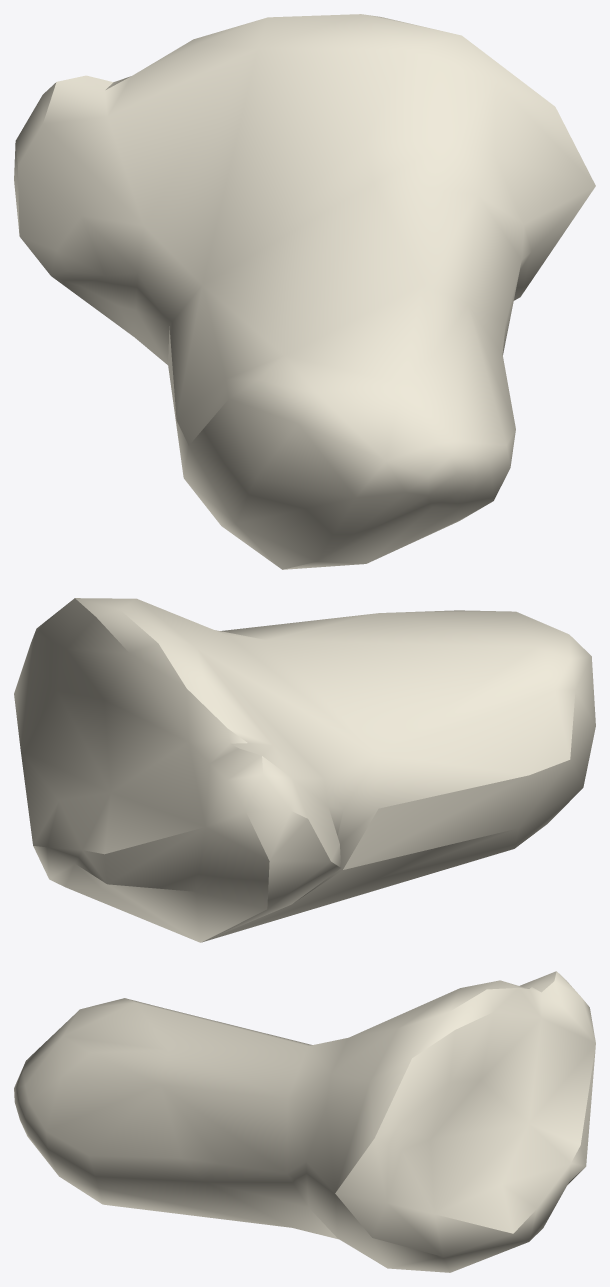
Rendered from fma32654_fj3190.glb.
3 views of the same model, one above another, from view 1: azimuth 30°, elevation 25°; view 2: azimuth 150°, elevation 25°; view 3: azimuth 270°, elevation 25° (orthographic). The views are drawn at different scales.
Visible parts, largest first — view 1: FMA32654_FJ3190; view 2: FMA32654_FJ3190; view 3: FMA32654_FJ3190.
Boxes of the visible parts, box(x1,y1,x2,y2) form: FMA32654_FJ3190: box(14, 14, 595, 569); FMA32654_FJ3190: box(14, 598, 595, 942); FMA32654_FJ3190: box(14, 971, 595, 1272).
Size of the model in its own units: 0.00893 by 0.00581 by 0.0114.
